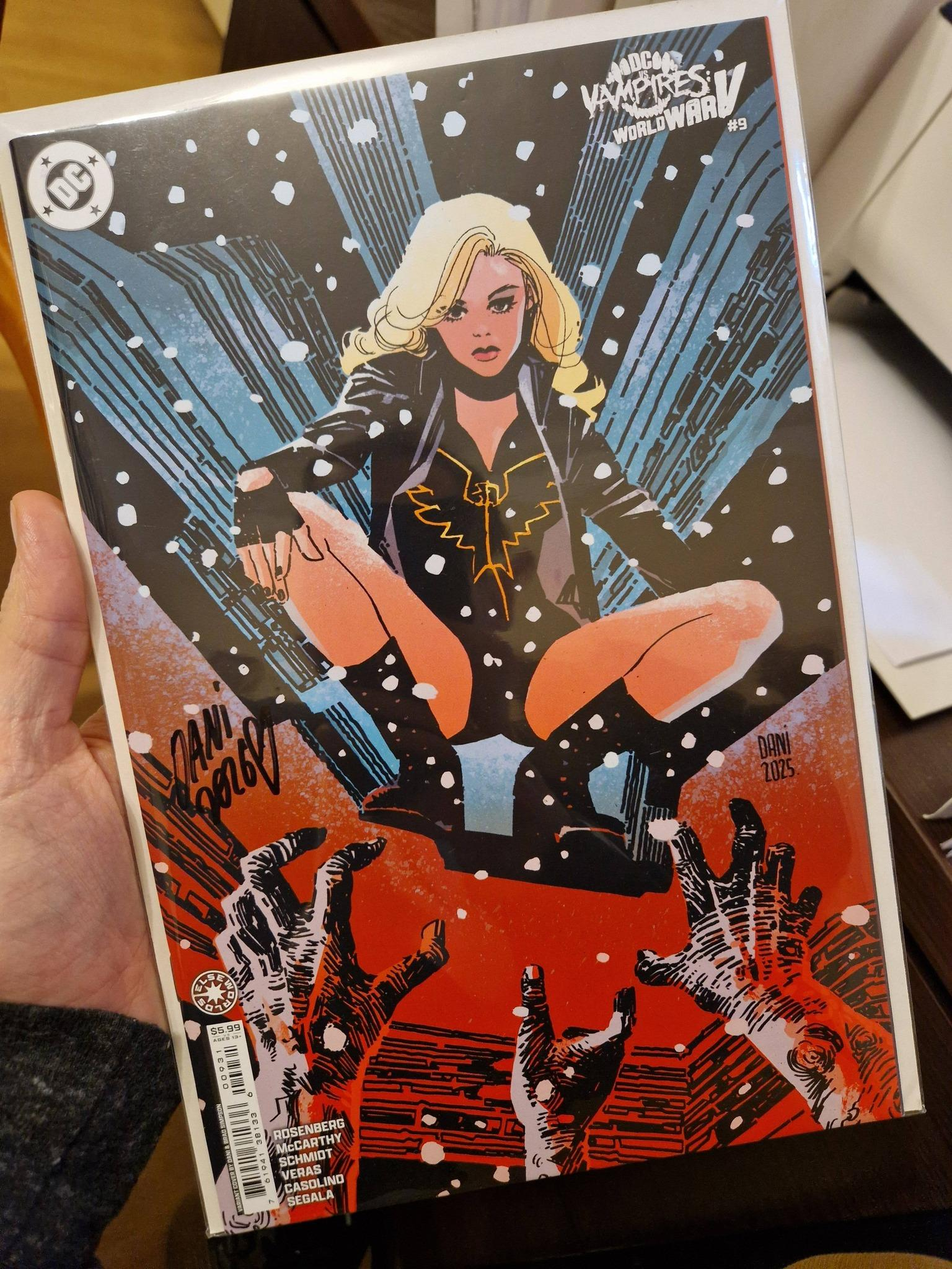comic: (0, 0, 952, 1241)
